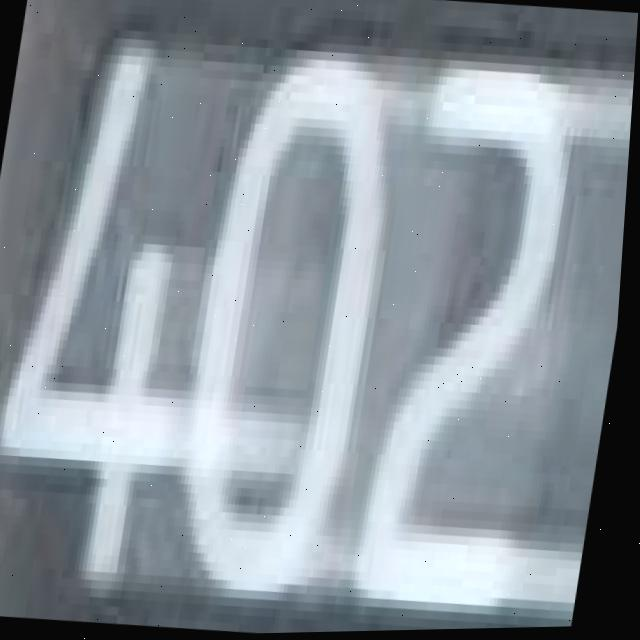character: (348, 29, 607, 619), (160, 42, 422, 616), (0, 22, 246, 600)
